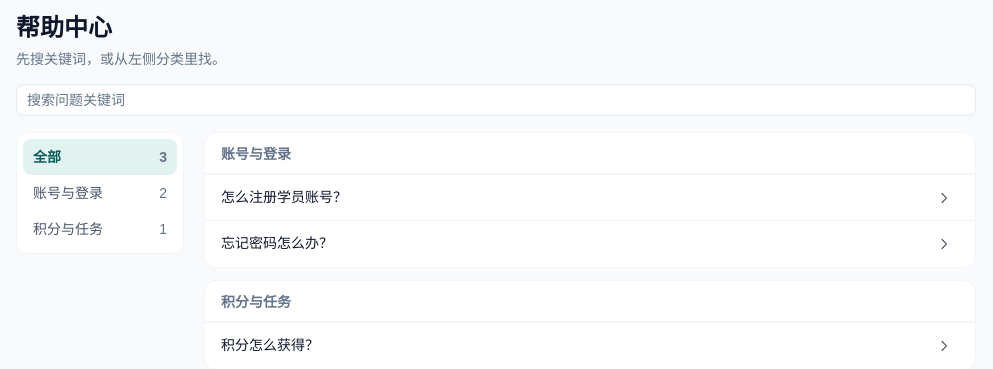
Test: 帮助中心 端上搜索（#1079） › 关键词命中问题文本：只显示命中的条目，且跨分类
The width and height of the screenshot is (993, 369).
In the field with placeholder "搜索问题关键词": (496, 100) [27,85,965,115], type "积分"
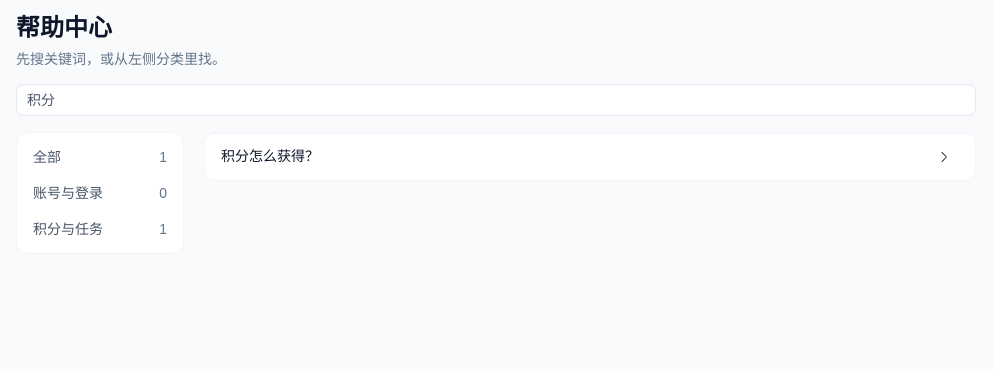
Check: the text "积分怎么获得？" is shown, box [205,134,975,180]
Check: the text "怎么注册学员账号？" is gone
